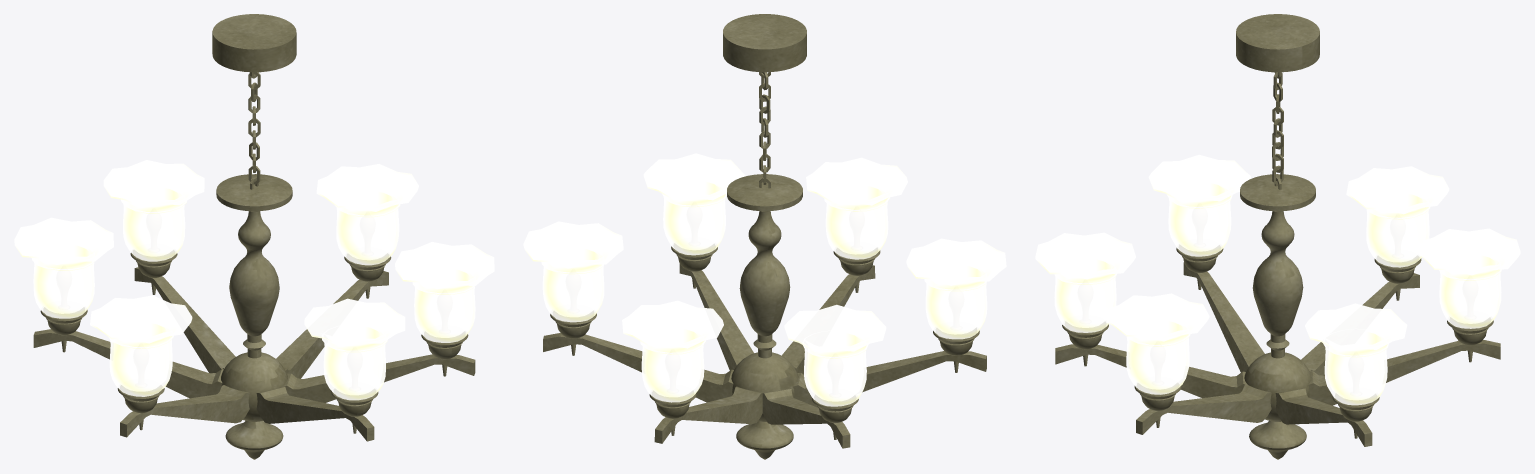
Rendered from lustre.fbx.
3 views of the same model, side by side, from view 1: azimuth 30°, elevation 25°; view 2: azimuth 150°, elevation 25°; view 3: azimuth 270°, elevation 25° (orthographic).
Parts seen in each view (by area): view 1: lustre; view 2: lustre; view 3: lustre.
Part boxes in pixels (x1,y1,x2,y2): lustre: (14,14,494,459); lustre: (523,14,1006,459); lustre: (1035,14,1520,459).
Size of the model in its own units: 841 by 818 by 786.
3 materials, 1 textured.
